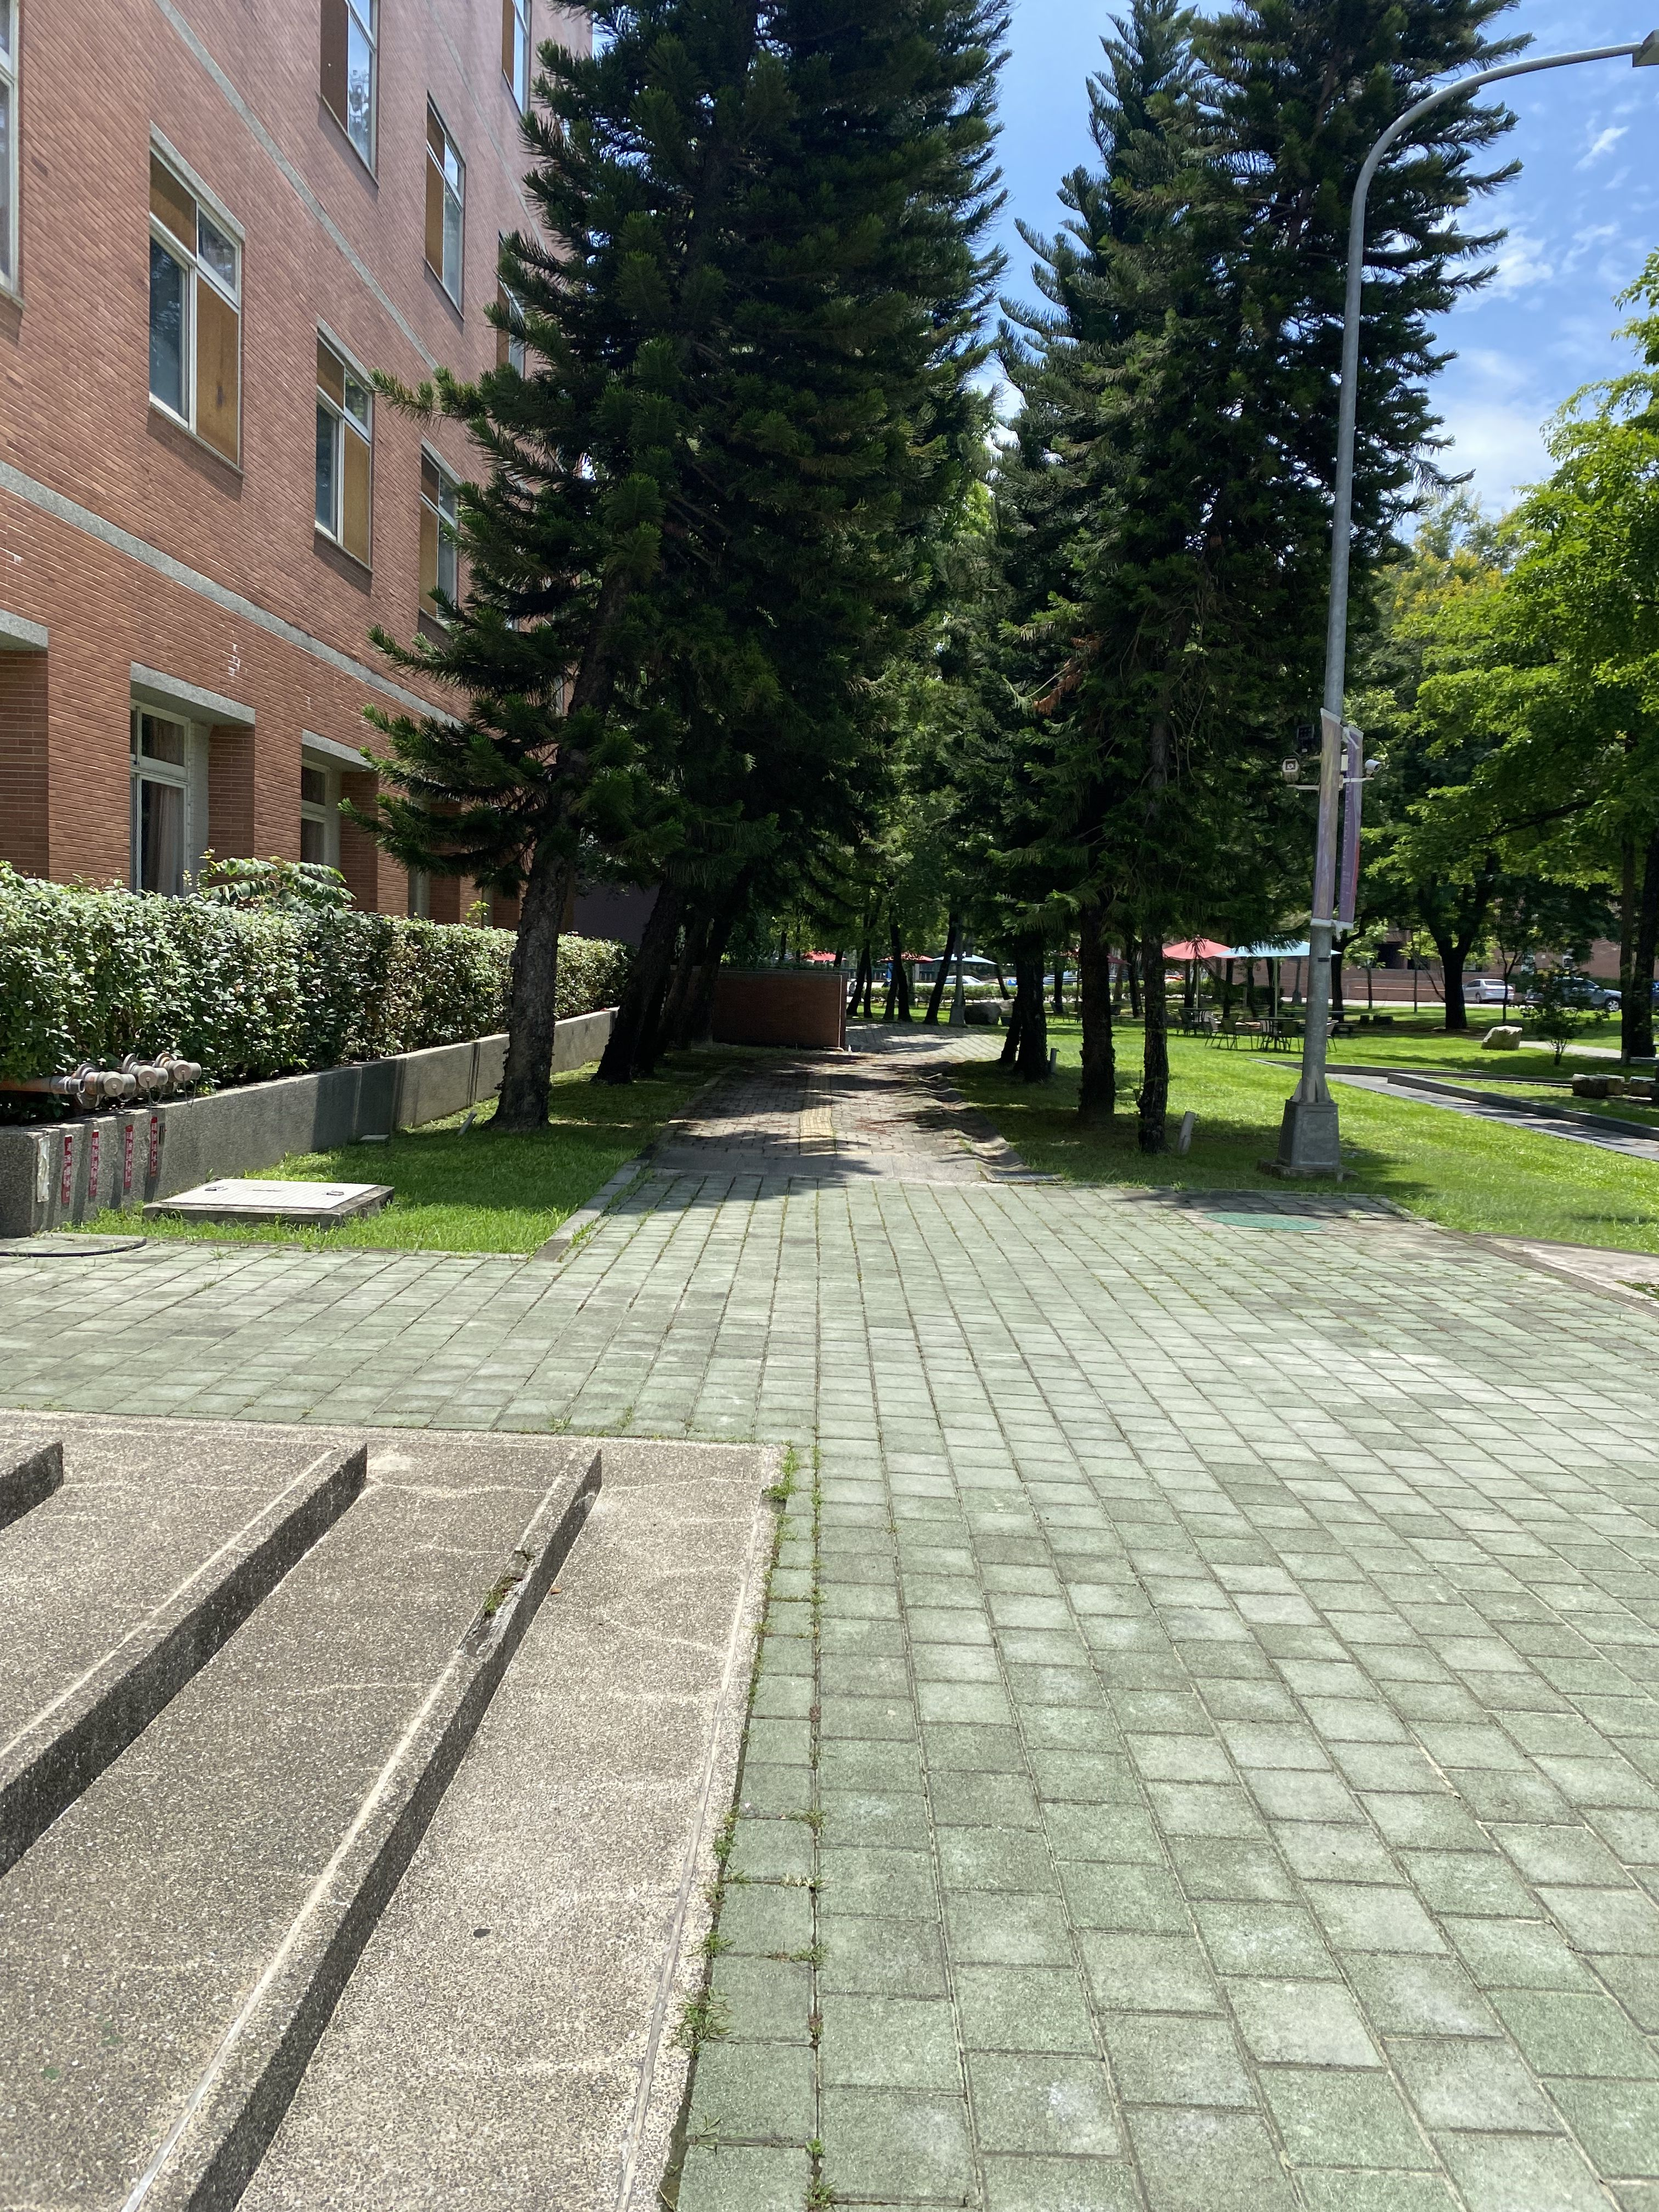sidewalk: (495, 949, 1659, 2212)
